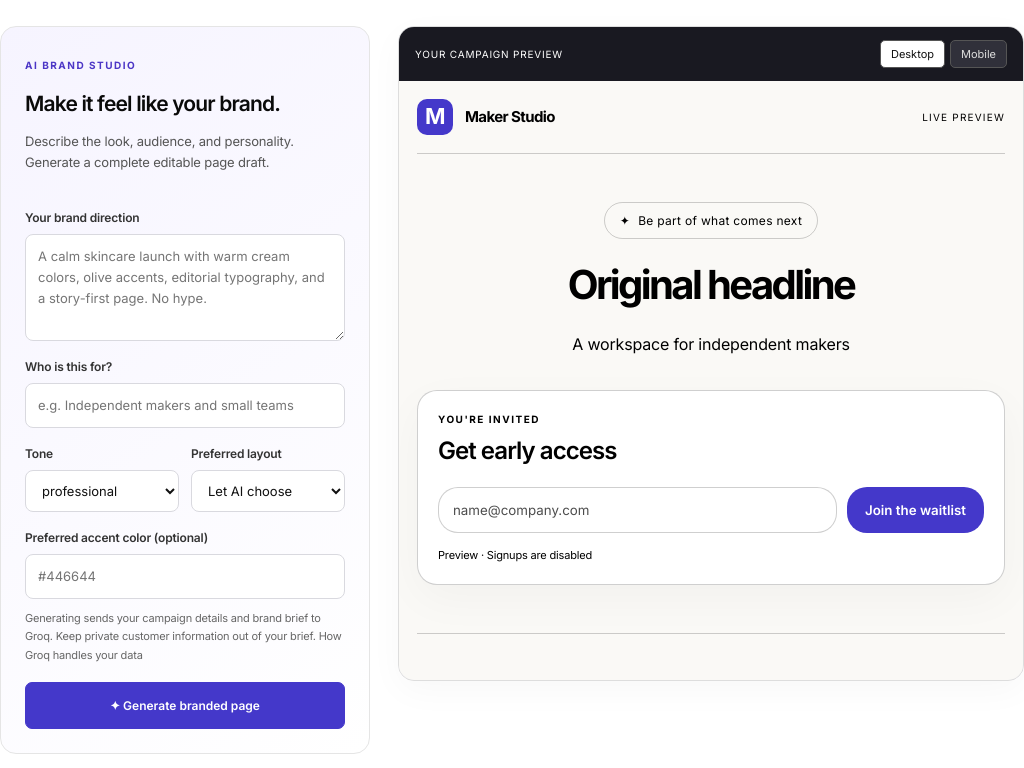
Test case: Campaign design studio › generates an editable preview without publishing and supports undo
The width and height of the screenshot is (1024, 768).
Replace the text in the text box labelled "Your brand direction" with "Calm editorial page in olive and cream" at (185, 288), box [25,234,345,341]
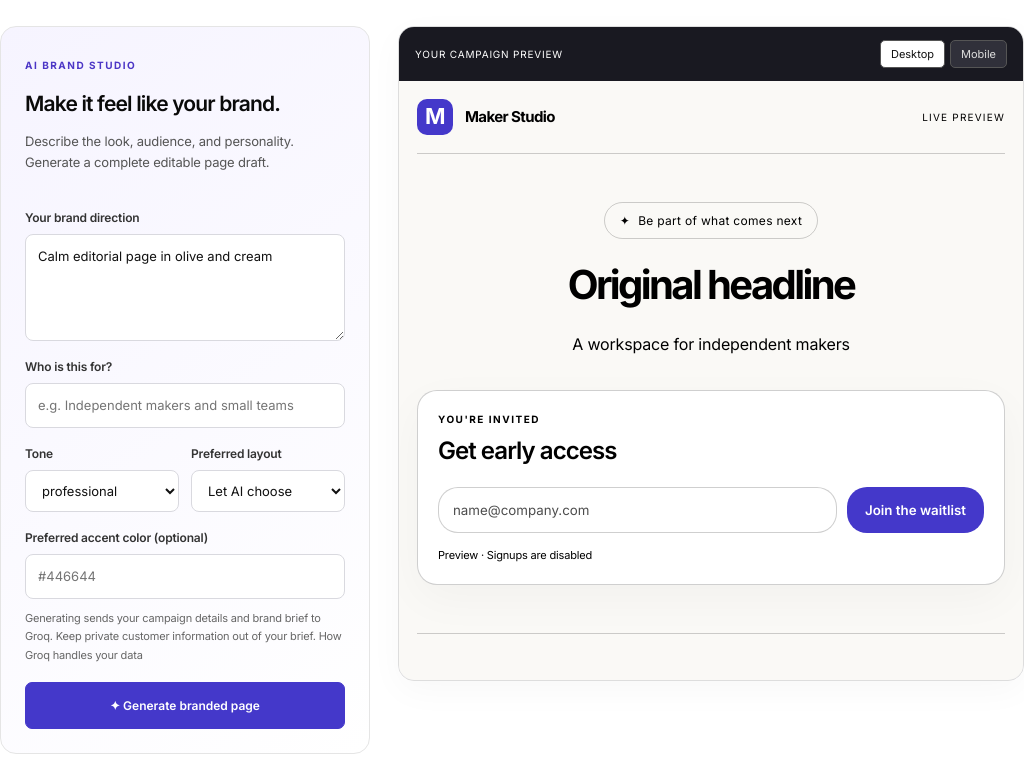
Click the button "✦ Generate branded page".
click(185, 705)  # box [25,682,345,729]
(page scrolled)
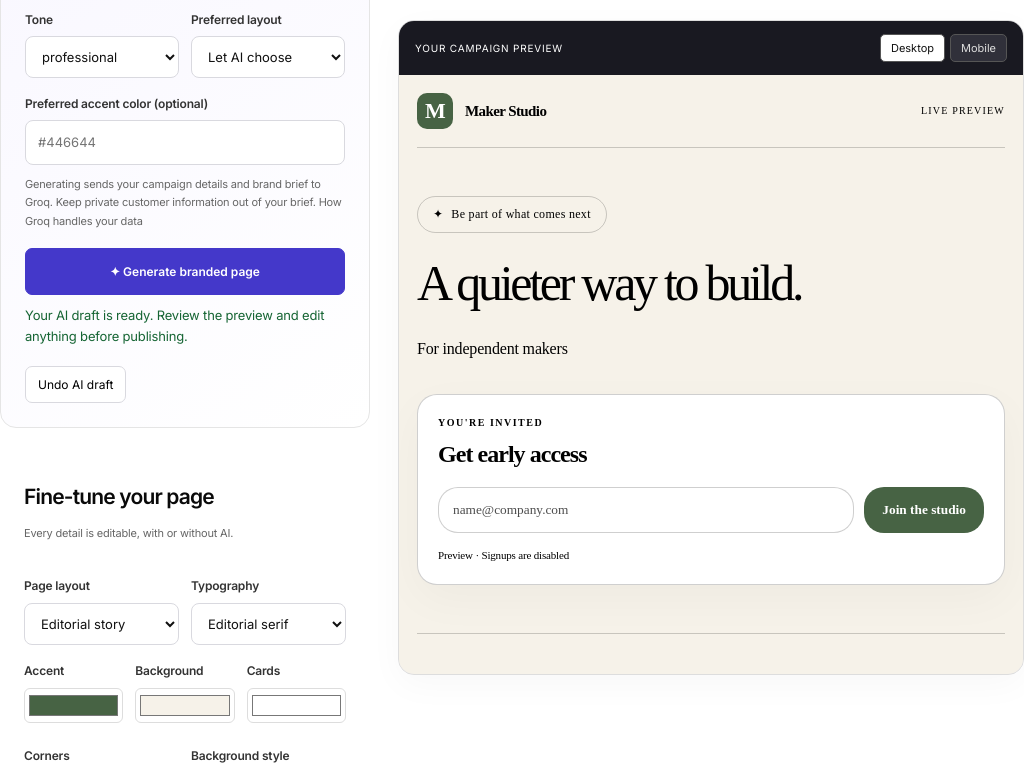
Now the text "Your AI draft is ready" is shown, box [25,307,324,344]
Click the button "Undo AI draft".
click(76, 384)  # box [25,366,126,403]
(page scrolled)
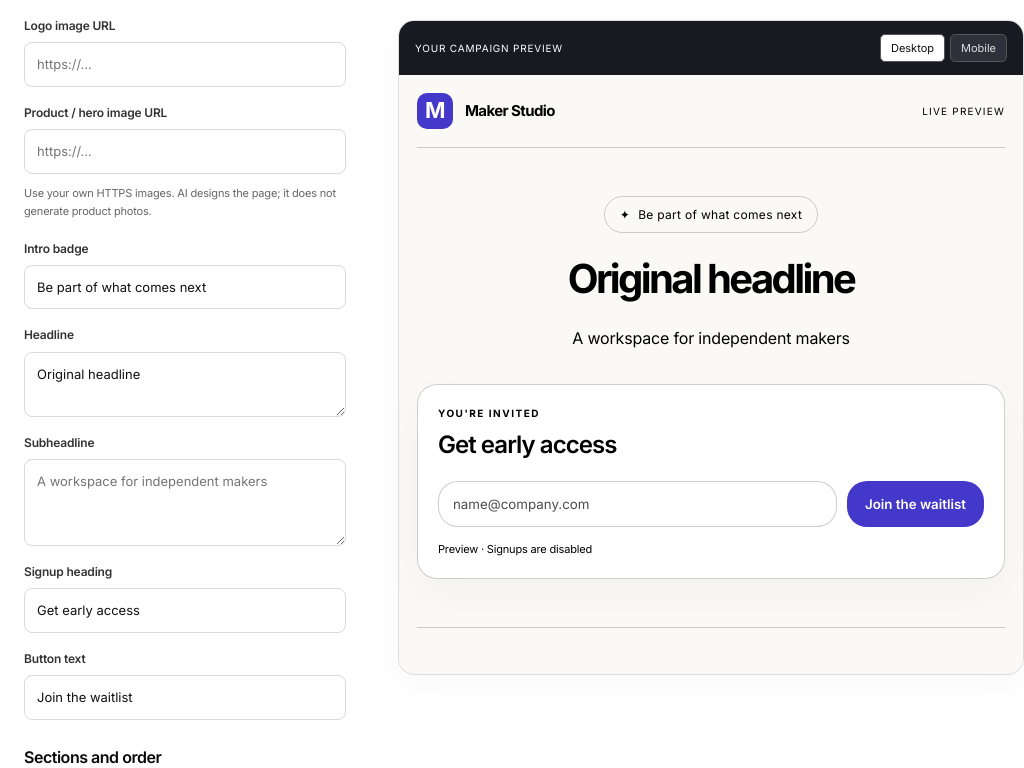
Now the text box labelled "Headline" holds "Original headline", box [24,352,346,417]
